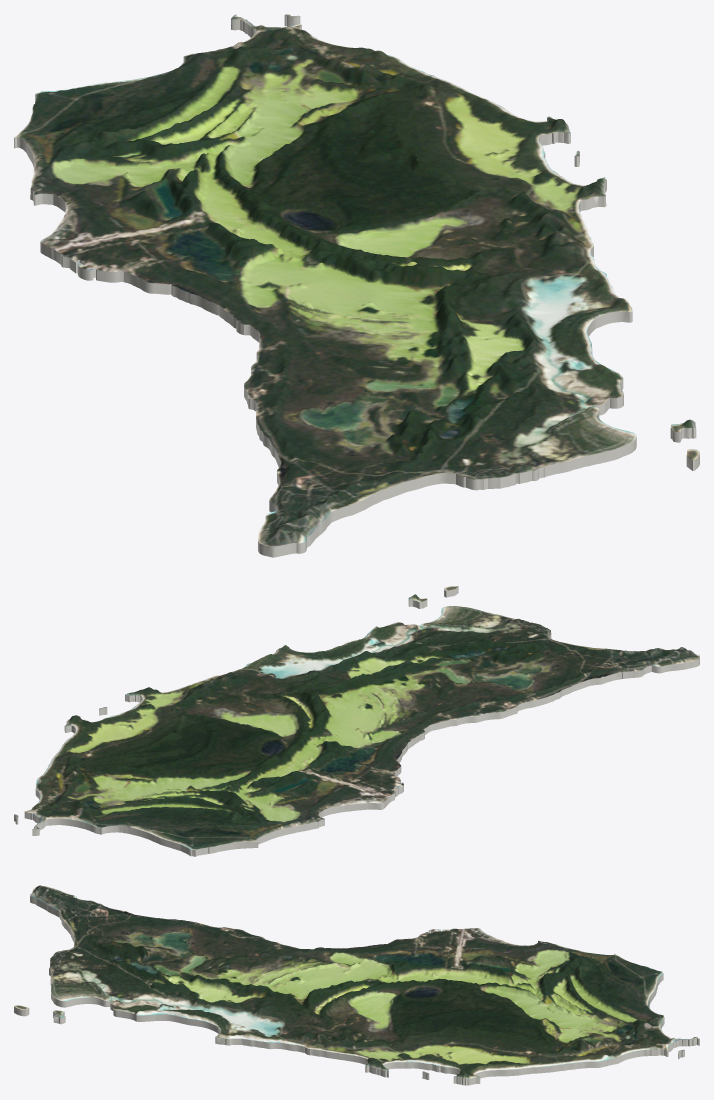
File: san_salvador_island.glb
3 views of the same model, one above another, from view 1: azimuth 30°, elevation 25°; view 2: azimuth 150°, elevation 25°; view 3: azimuth 270°, elevation 25° (orthographic). The views are drawn at different scales.
Parts seen in each view (by area): view 1: Plane; view 2: Plane; view 3: Plane.
Part boxes in pixels (box(x1,y1,x2,y2)): Plane: box(14, 14, 699, 557); Plane: box(14, 586, 699, 856); Plane: box(14, 885, 699, 1085).
Size of the model in its own units: 1434 by 55.36 by 2150.
Materials: 1 (1 with a texture image).
